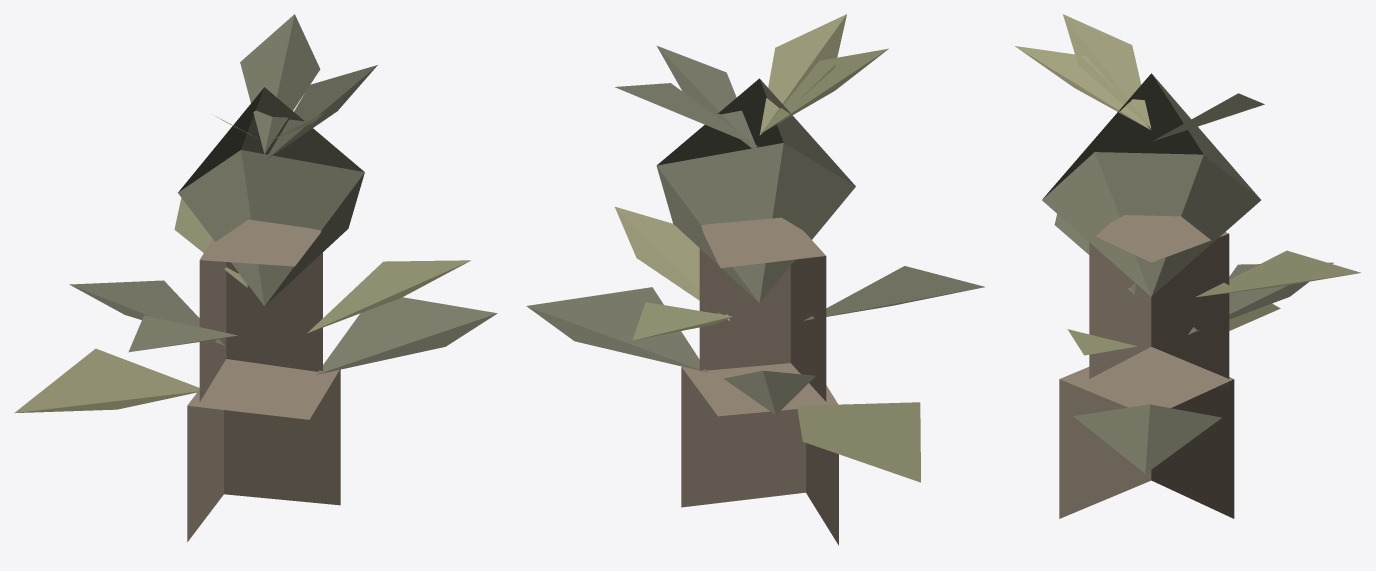
Rendered from nong.dao@seedling__winter.glb.
The picture shows the model from 3 angles, left to right: view 1: azimuth 30°, elevation 25°; view 2: azimuth 150°, elevation 25°; view 3: azimuth 270°, elevation 25°; orthographic projection. The views are drawn at different scales.
Visible parts, largest first — view 1: nong.dao@seedling__winter; view 2: nong.dao@seedling__winter; view 3: nong.dao@seedling__winter.
Boxes of the visible parts, x1,y1,x2,y2 form: nong.dao@seedling__winter: (14,14,497,541); nong.dao@seedling__winter: (526,14,984,545); nong.dao@seedling__winter: (1015,14,1360,518).
Bounding box in the file's own units: 0.0881 × 0.0881 × 0.0598.
